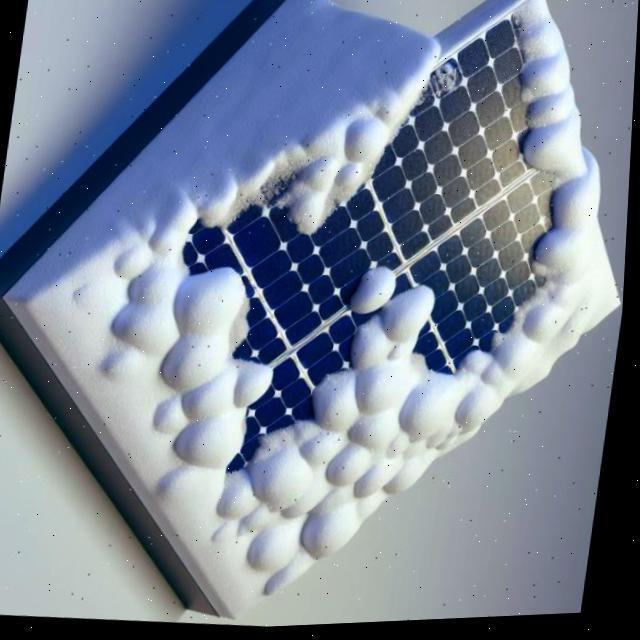Anomaly Solar Panel: (31, 0, 623, 621)
Snow: (33, 0, 621, 619)
